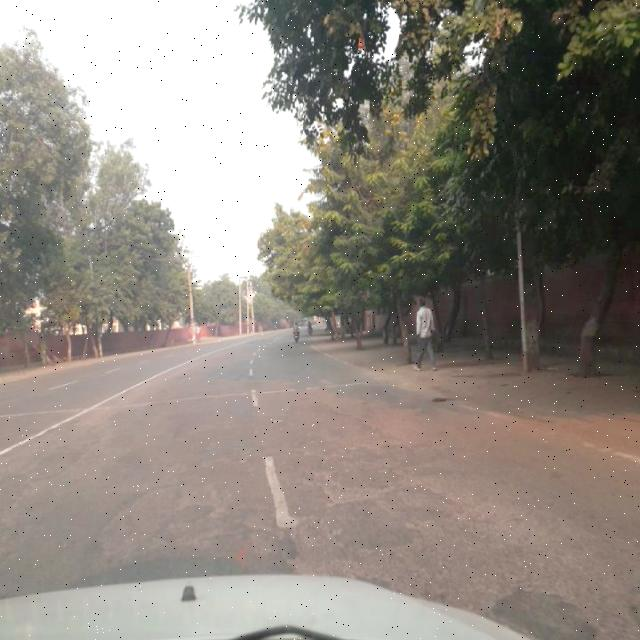D44: (473, 404, 640, 457)
